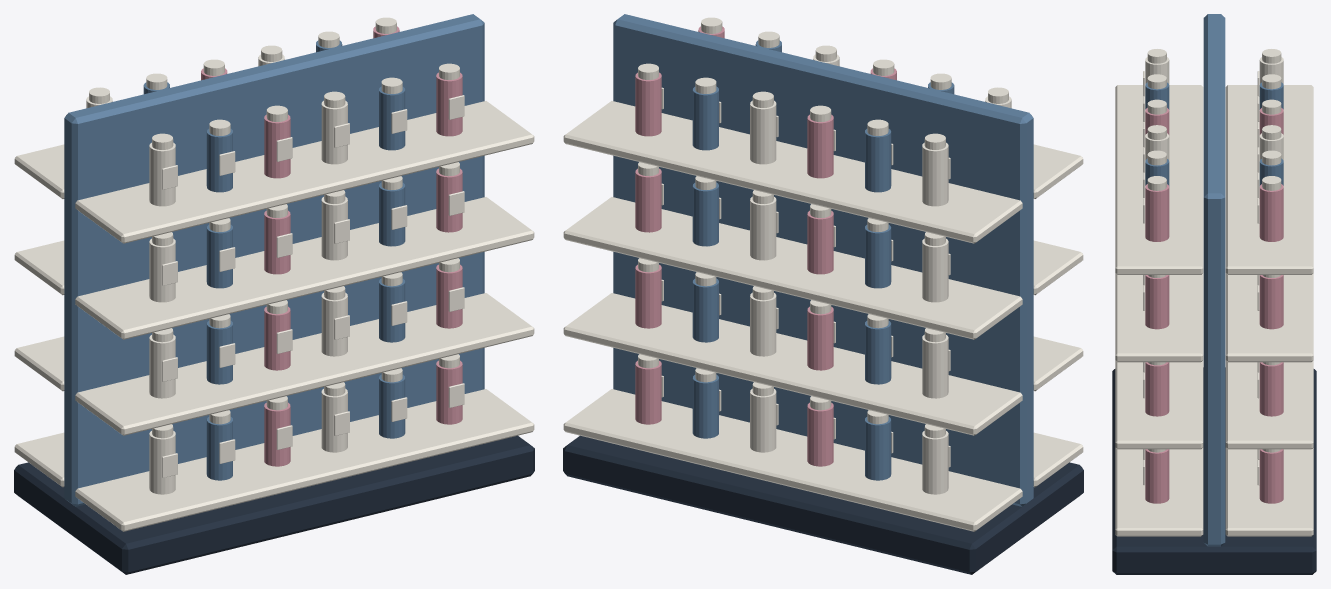
File: retail_03.glb
3 renders of one model, left to right at view 1: azimuth 30°, elevation 25°; view 2: azimuth 150°, elevation 25°; view 3: azimuth 270°, elevation 25°, orthographic. The views are drawn at different scales.
Parts seen in each view (by area): view 1: DisplayShelf (×8), Spine, Bottle (×24), Base; view 2: DisplayShelf (×8), Spine, Bottle (×24), Base; view 3: DisplayShelf (×8), Bottle (×18), Spine, Base, BottleCap (×2).
Boxes of the visible parts, <box> form: DisplayShelf (×8): <box>14,101,534,531</box>; Spine: <box>64,14,484,506</box>; Bottle (×24): <box>149,72,462,494</box>; Base: <box>14,435,534,574</box>; DisplayShelf (×8): <box>563,101,1083,531</box>; Spine: <box>613,14,1033,506</box>; Bottle (×24): <box>635,72,948,494</box>; Base: <box>563,435,1083,574</box>; DisplayShelf (×8): <box>1115,85,1313,536</box>; Bottle (×18): <box>1145,57,1283,503</box>; Spine: <box>1203,14,1225,546</box>; Base: <box>1112,367,1316,574</box>; BottleCap (×2): <box>1147,99,1281,114</box>.
Bounding box in the file's own units: 1.8 × 1.75 × 0.85.
